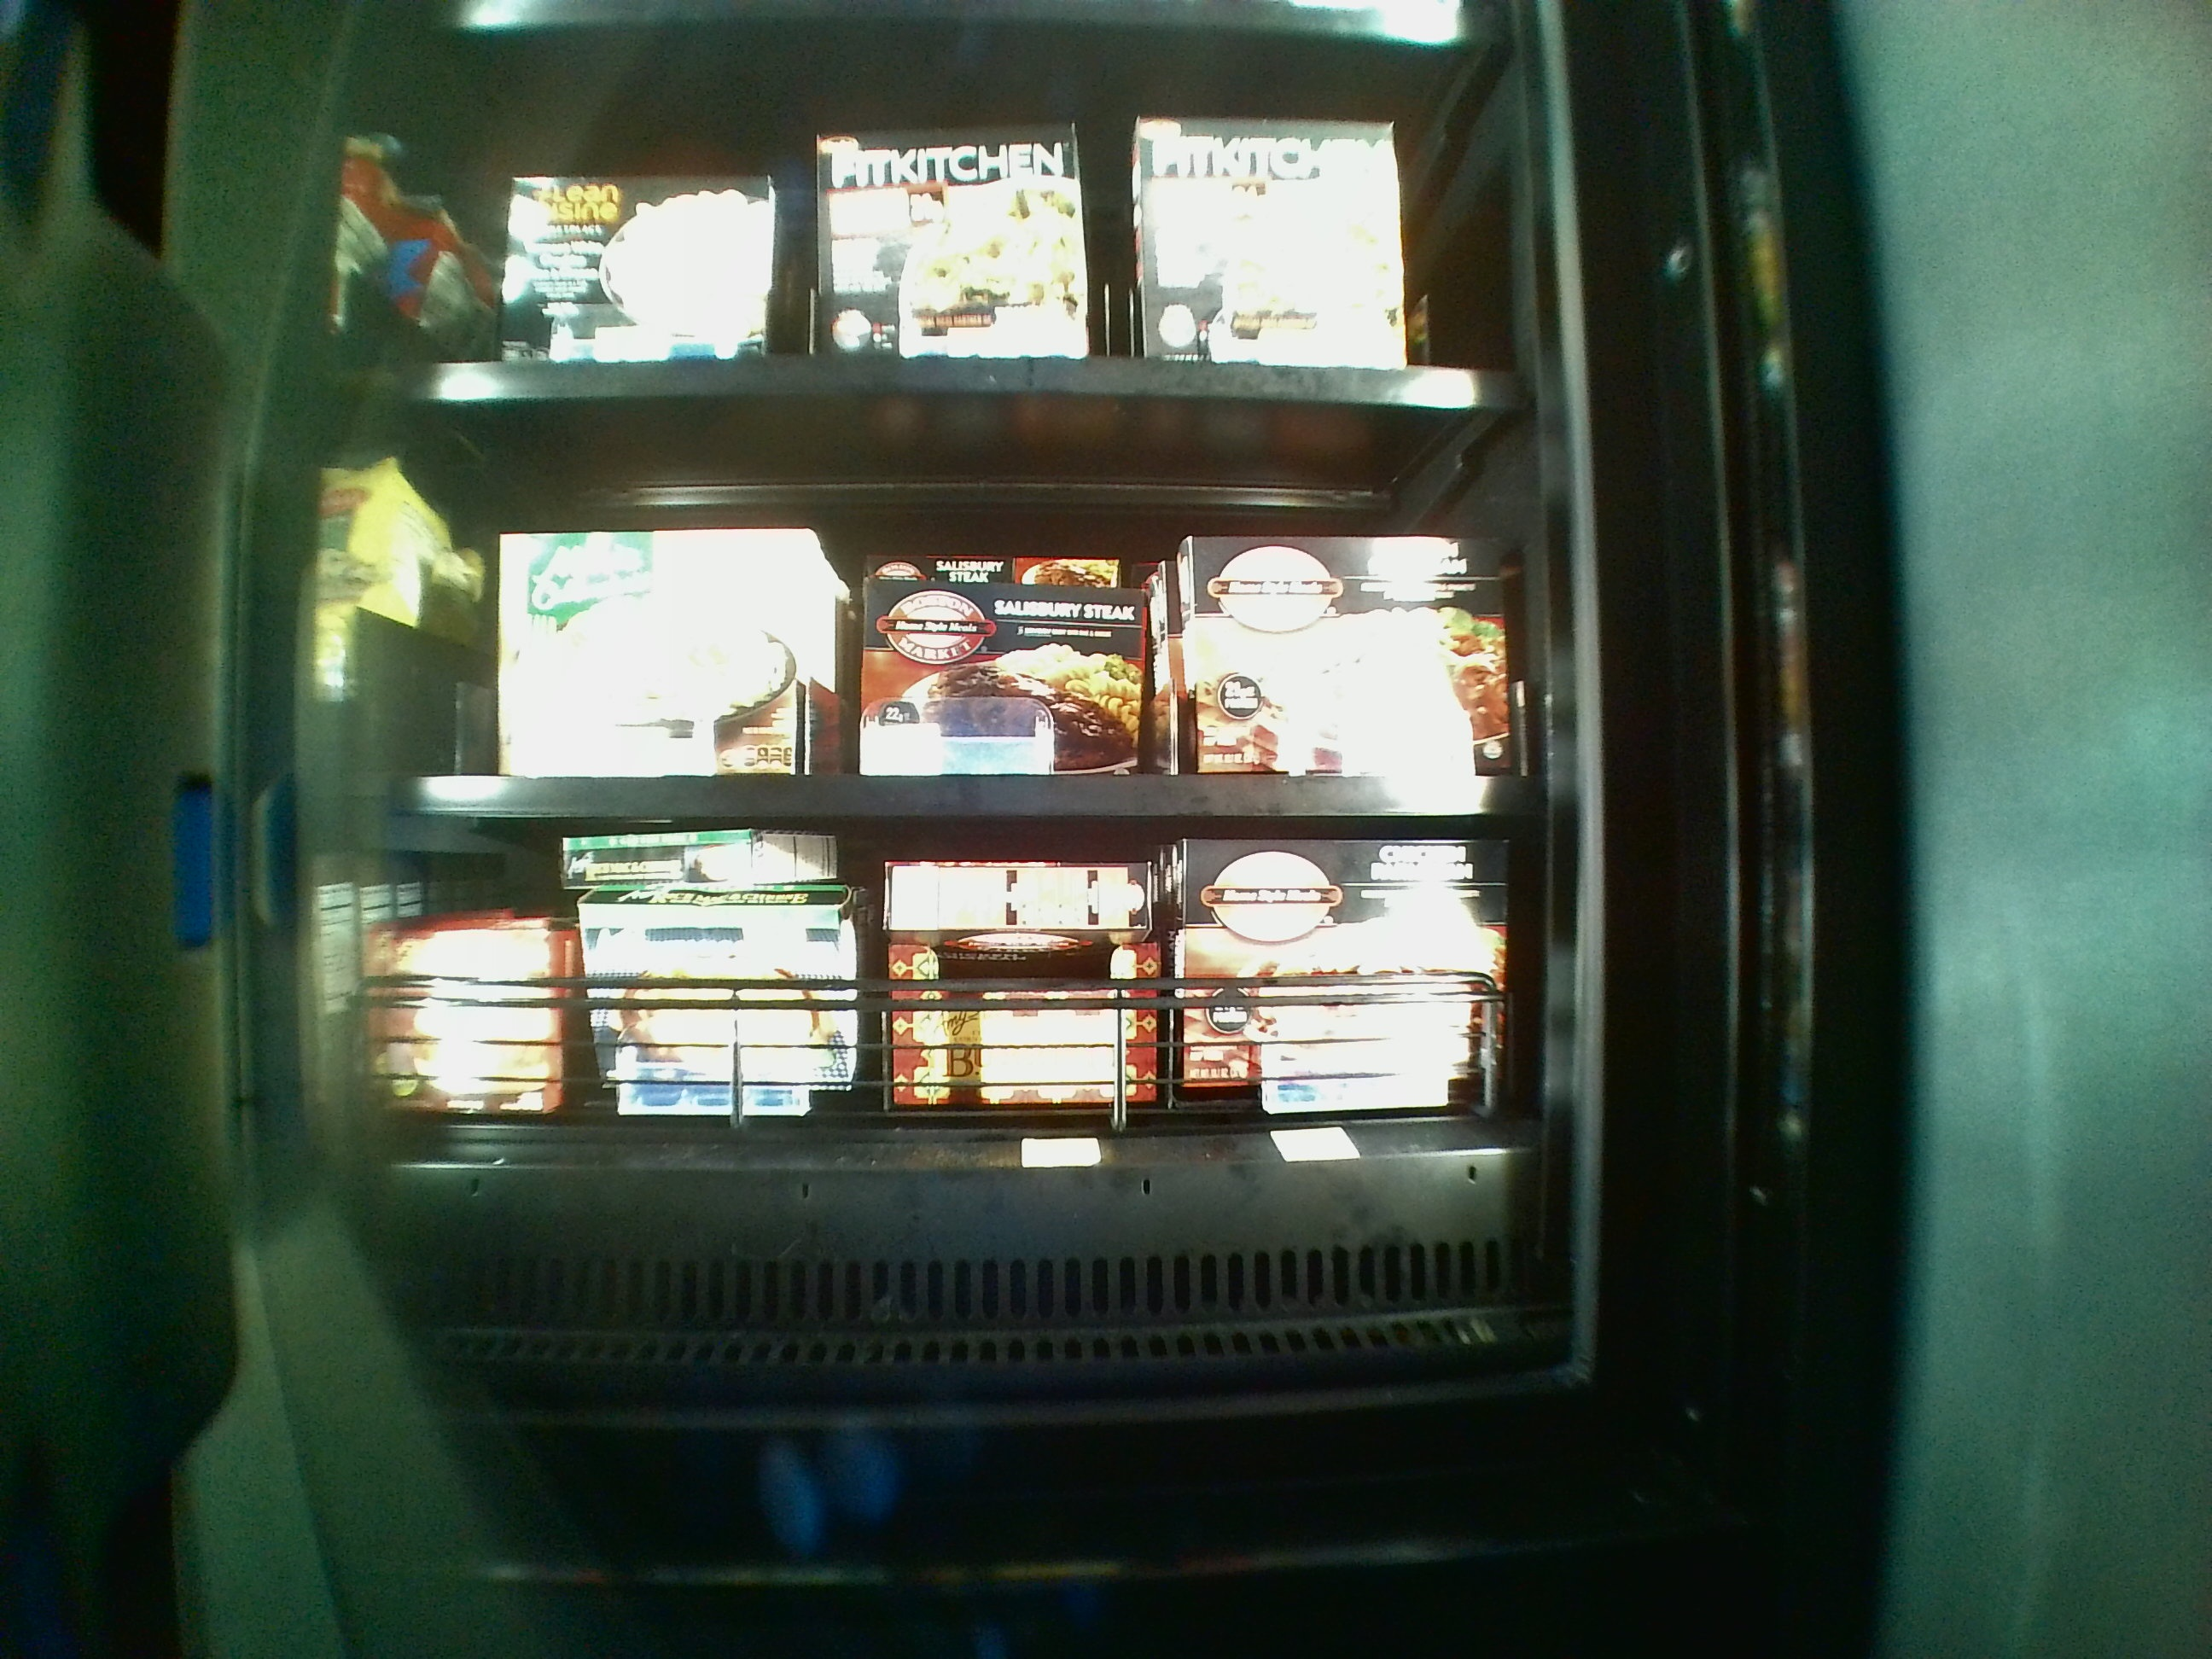shelf: (347, 397, 1524, 823), (329, 836, 1538, 1201)
